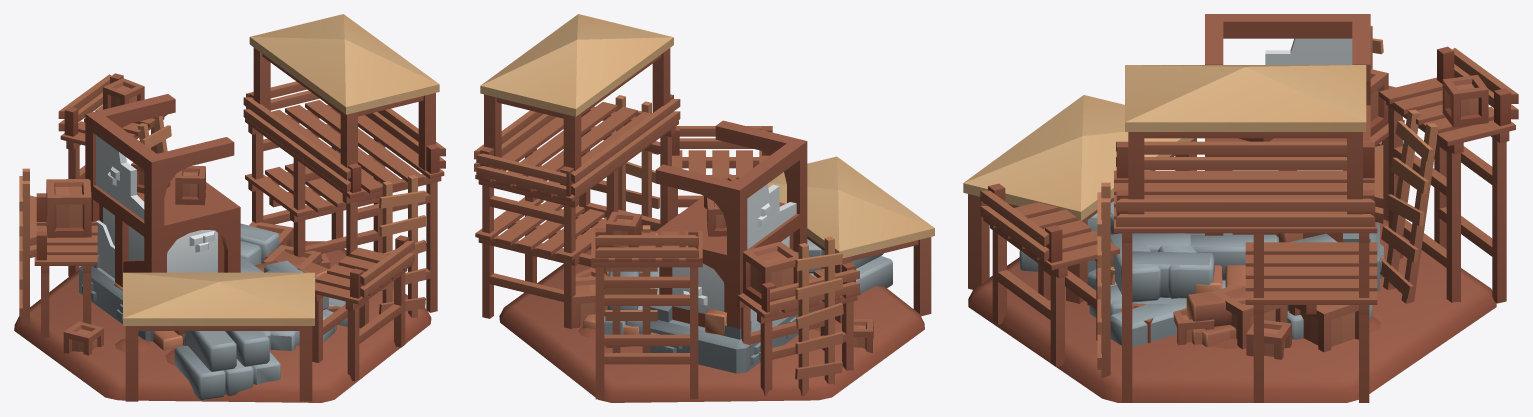
The model's file is k_props.glb.
The picture shows the model from 3 angles, left to right: view 1: azimuth 30°, elevation 25°; view 2: azimuth 150°, elevation 25°; view 3: azimuth 270°, elevation 25°; orthographic projection. The views are drawn at different scales.
Visible parts, largest first — view 1: building_scaffolding, building_stage_C, building_dirt, building_stage_B, building_stage_A; view 2: building_scaffolding, building_stage_C, building_dirt, building_stage_B; view 3: building_scaffolding, building_dirt, building_stage_C, building_stage_A, building_stage_B, resource_stone, resource_lumber.
Part boxes in pixels (box(x1,y1,x2,y2)): building_scaffolding: box(19, 14, 445, 401); building_stage_C: box(80, 94, 347, 350); building_dirt: box(14, 241, 431, 402); building_stage_B: box(79, 199, 340, 349); building_stage_A: box(114, 245, 336, 346); building_scaffolding: box(474, 14, 934, 399); building_stage_C: box(572, 120, 807, 373); building_dirt: box(499, 248, 924, 402); building_stage_B: box(583, 223, 821, 372); building_scaffolding: box(963, 25, 1518, 402); building_dirt: box(968, 219, 1496, 402); building_stage_C: box(1087, 14, 1383, 359); building_stage_A: box(1095, 233, 1287, 349); building_stage_B: box(1087, 154, 1383, 344); resource_stone: box(1187, 233, 1278, 288); resource_lumber: box(1195, 265, 1245, 293).
Bounding box in the file's own units: 1.9 × 1.32 × 2.11.
1 material, 1 textured.
